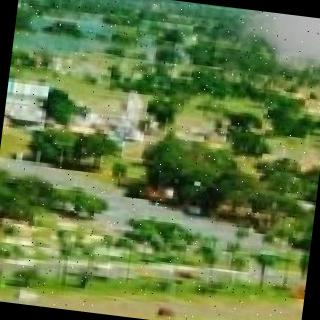smoke: (236, 9, 320, 106)
